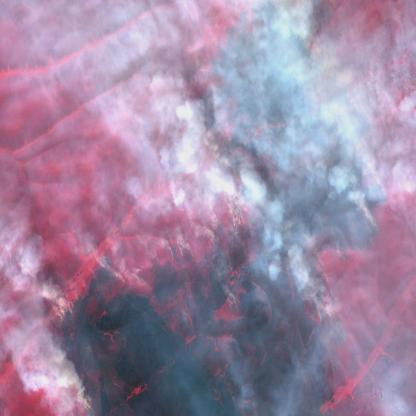fire: (51, 0, 391, 416)
